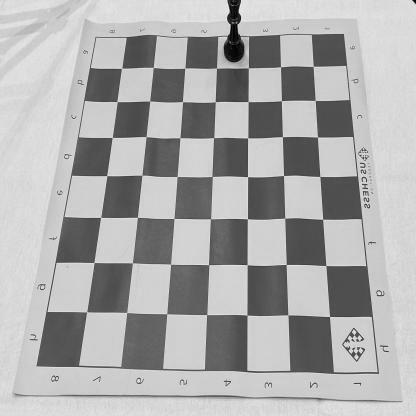black-king: (223, 0, 245, 64)
